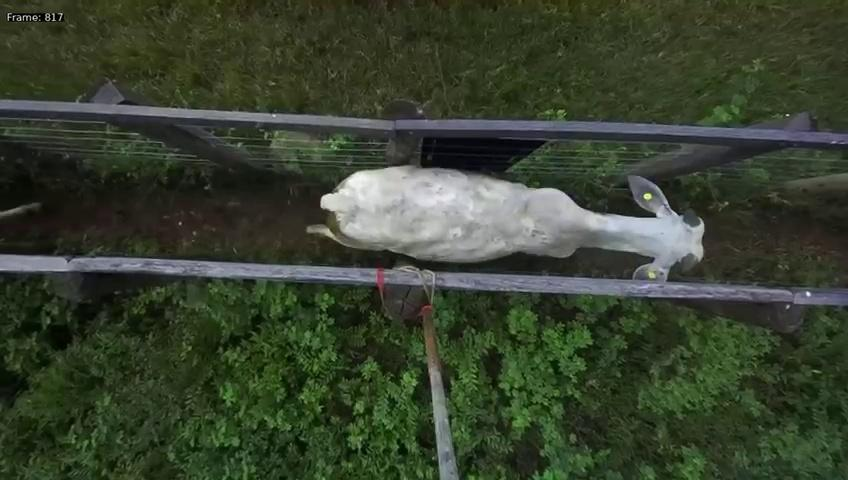cattle: (307, 129, 709, 279)
